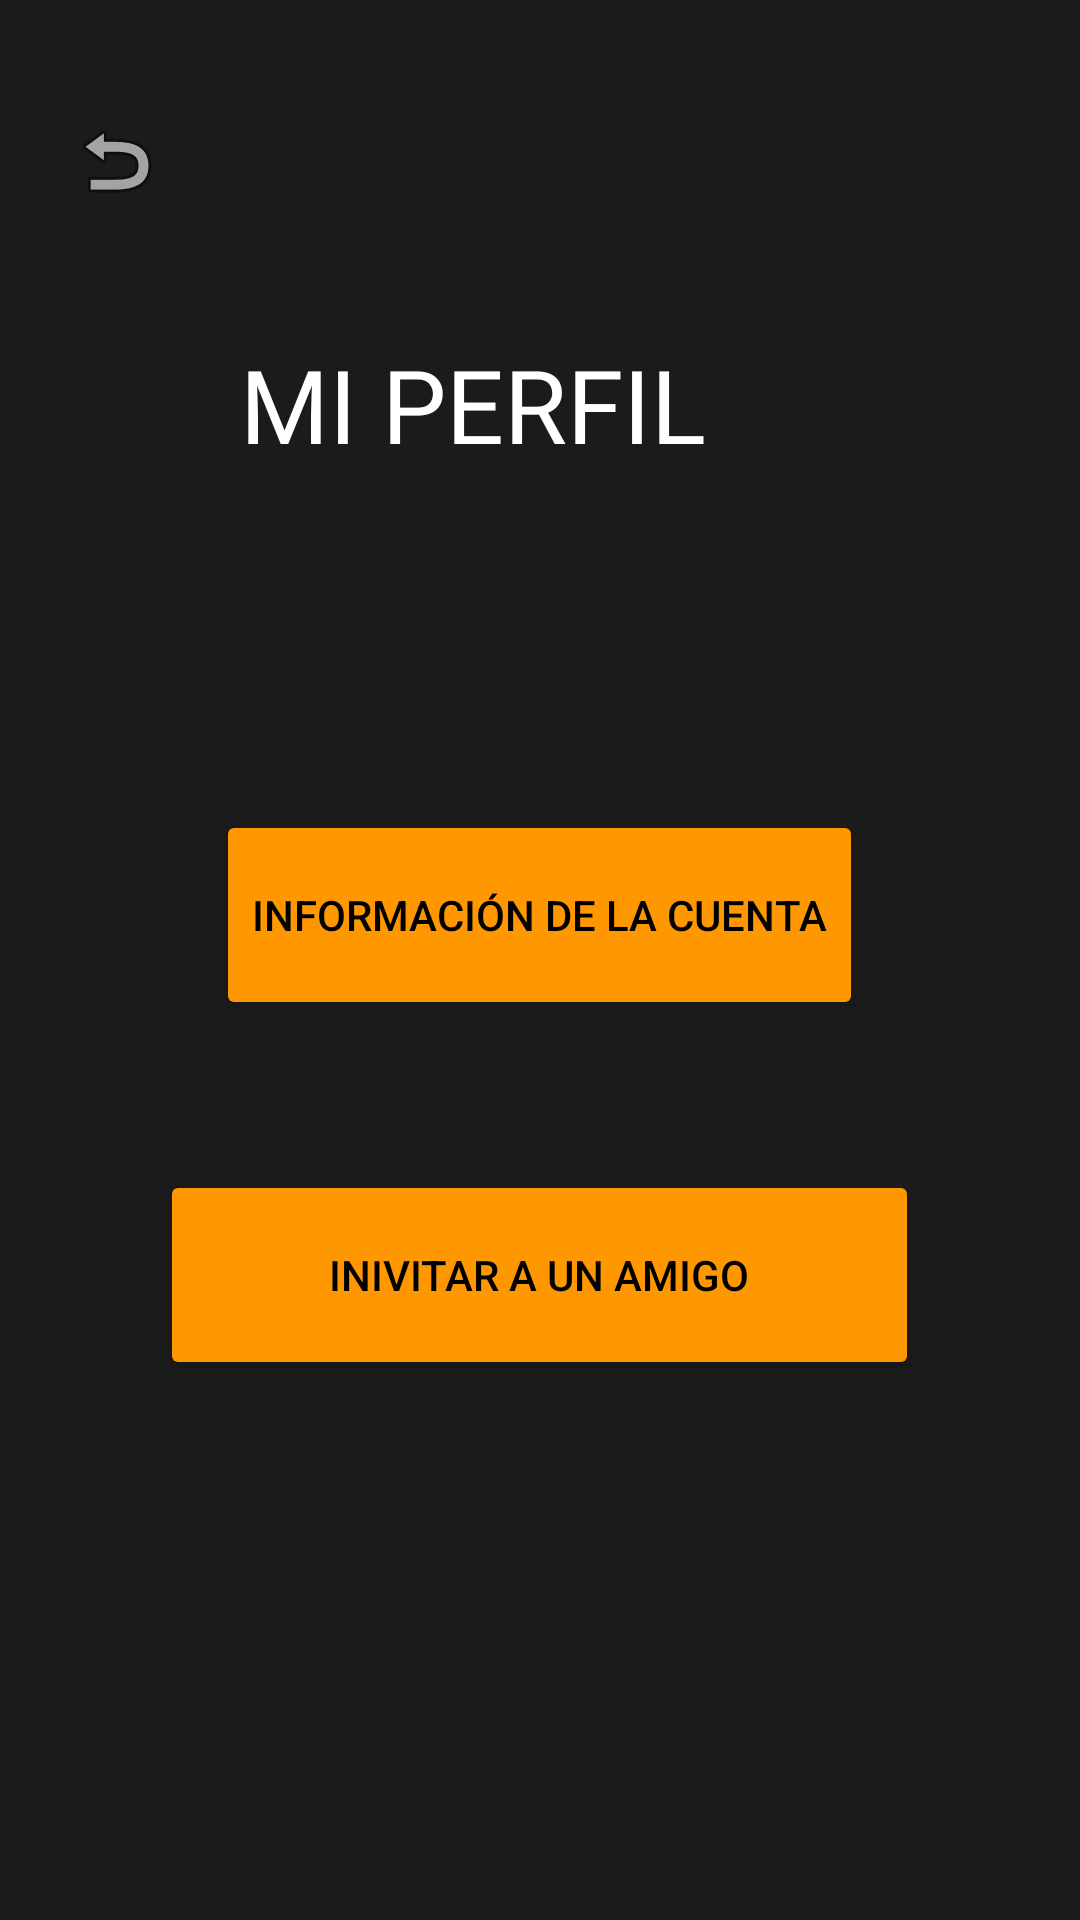

Point at icon controls on the screen. Image size 1080w x 1920h, points as point (x, y).
volver: point (117, 161)
